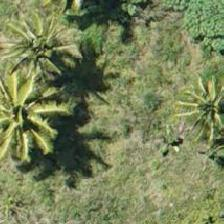coconut_tree: (0, 0, 84, 87), (0, 66, 63, 156), (165, 58, 223, 148)
